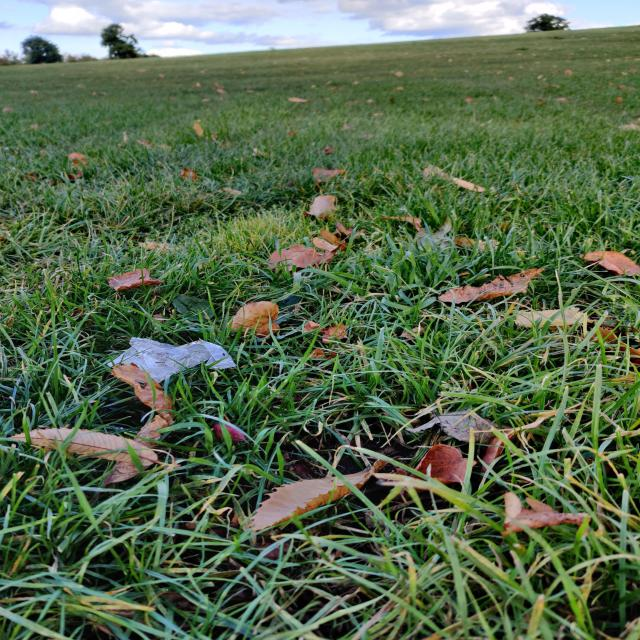litter: (87, 334, 244, 382)
